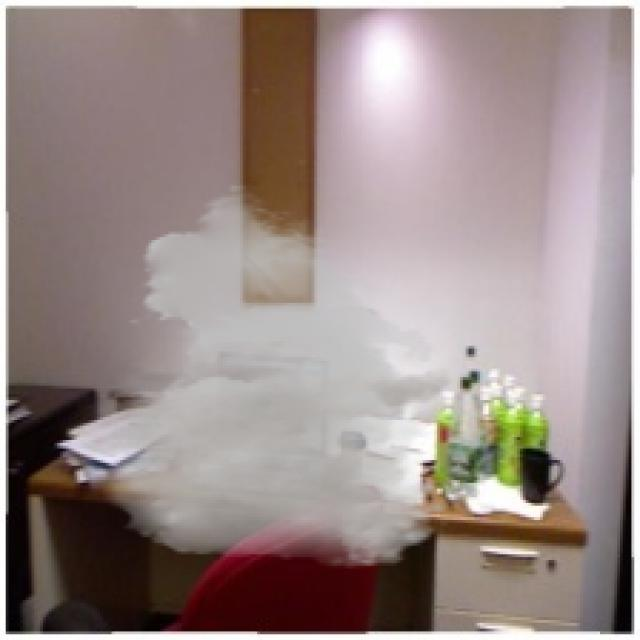smoke: (57, 183, 454, 568)
